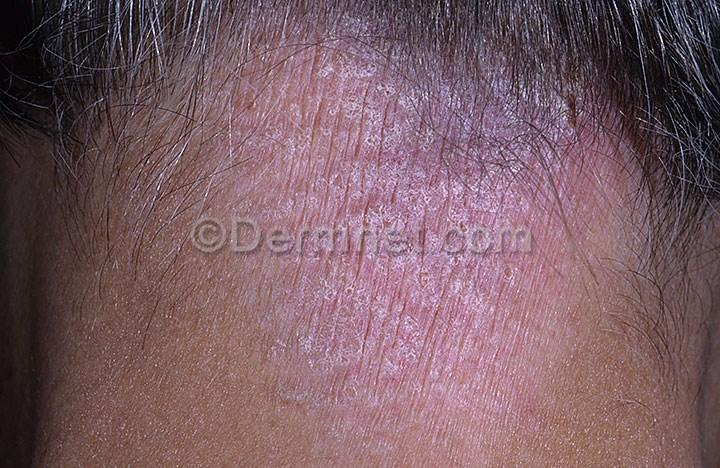Eczema: (196, 0, 626, 432)
